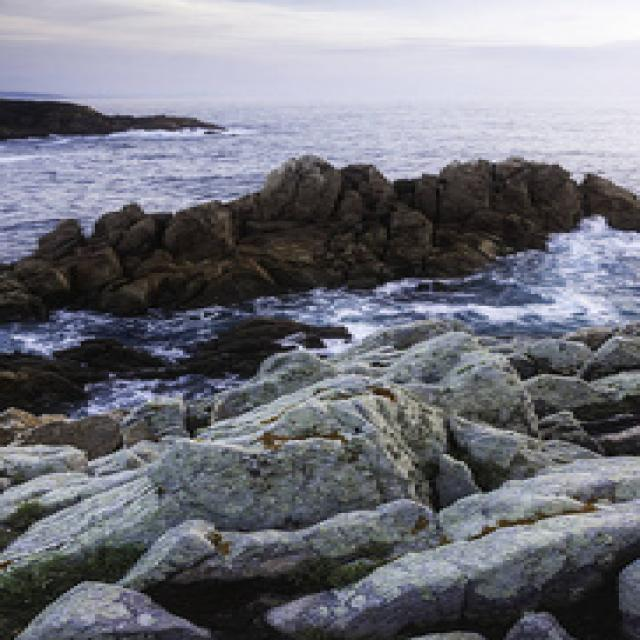reef: (110, 126, 616, 412)
